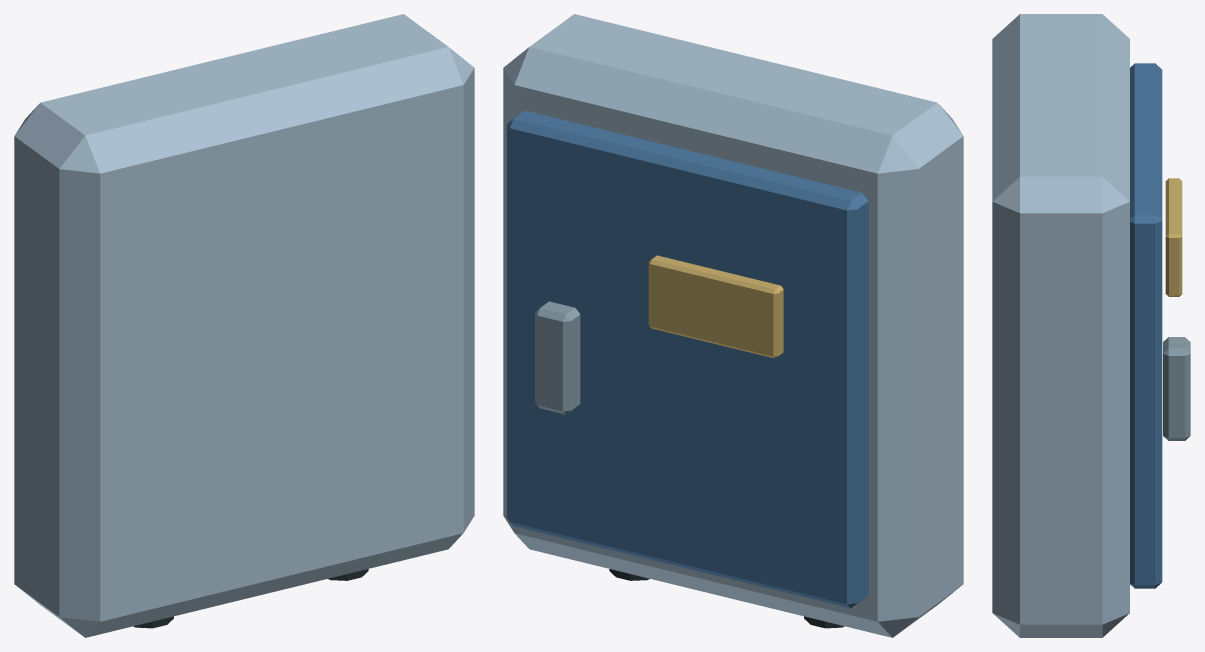
Rendered from wall_power_junction.glb.
The picture shows the model from 3 angles, left to right: view 1: azimuth 30°, elevation 25°; view 2: azimuth 150°, elevation 25°; view 3: azimuth 270°, elevation 25°; orthographic projection. The views are drawn at different scales.
Visible parts, largest first — view 1: junction_body; view 2: junction_cover, junction_body, junction_tag, junction_latch; view 3: junction_body, junction_cover, junction_latch, junction_tag.
Part boxes in pixels (x1=…): junction_body: x1=14, y1=14, x2=474, y2=637; junction_cover: x1=507, y1=110, x2=868, y2=608; junction_body: x1=503, y1=14, x2=963, y2=637; junction_tag: x1=648, y1=255, x2=783, y2=358; junction_latch: x1=535, y1=301, x2=580, y2=414; junction_body: x1=992, y1=14, x2=1129, y2=637; junction_cover: x1=1130, y1=63, x2=1162, y2=588; junction_latch: x1=1163, y1=337, x2=1190, y2=440; junction_tag: x1=1165, y1=178, x2=1182, y2=296.
Size of the model in its own units: 0.32 by 0.382 by 0.144.
